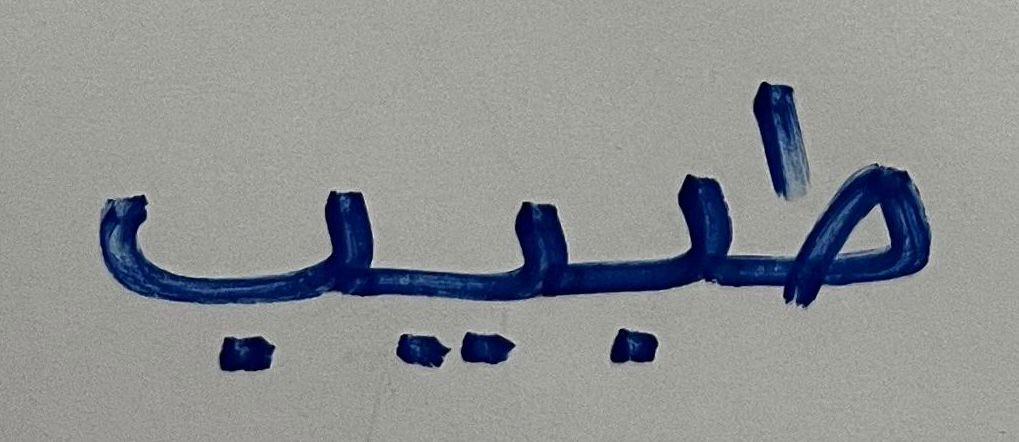beh: (56, 137, 375, 398), (579, 118, 741, 405)
tah: (745, 32, 947, 362)
yeh: (383, 122, 576, 415)
